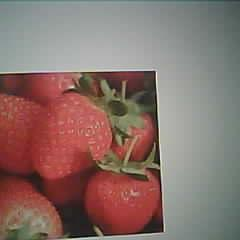straw-ripe: (37, 92, 114, 179)
